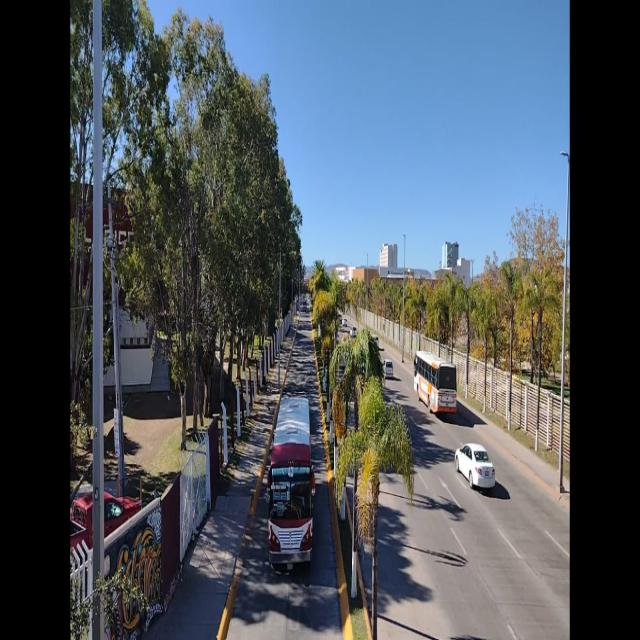Auto: (454, 436, 495, 492)
Autobus: (266, 390, 314, 574), (413, 346, 460, 419)
